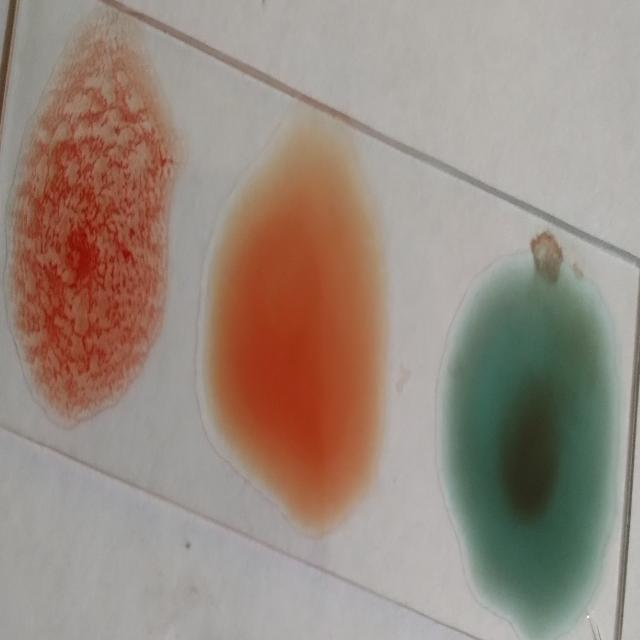D: (23, 14, 161, 422)
